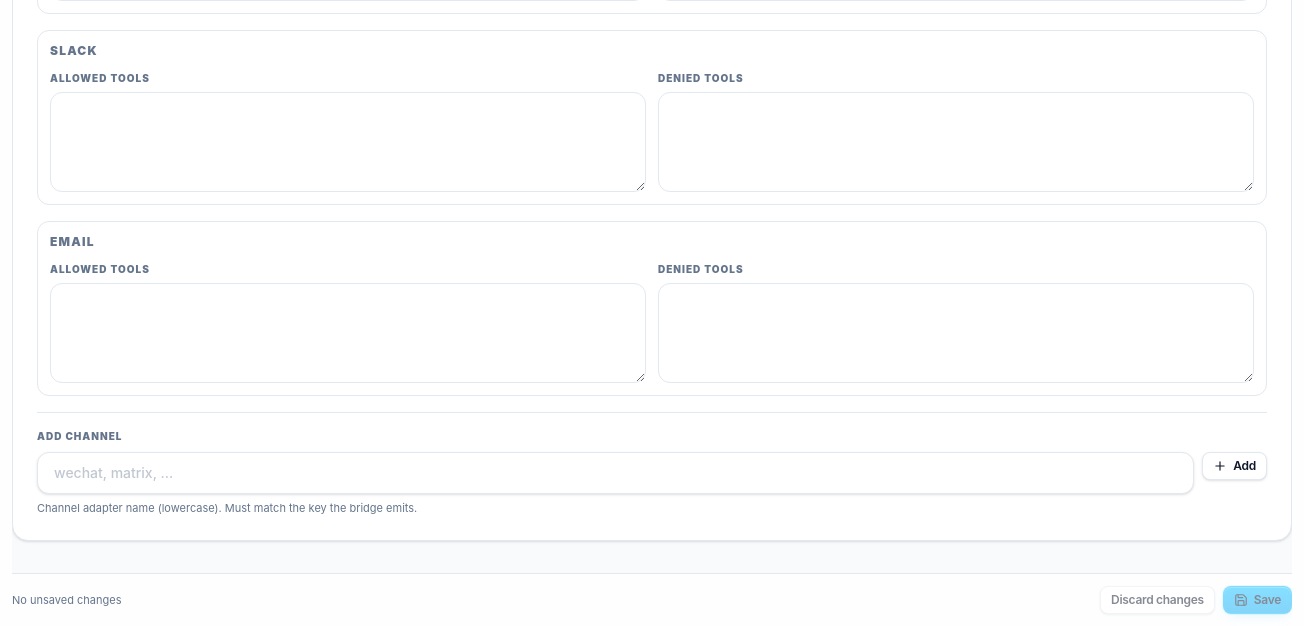
Test: UserPolicyPage › rejects adding a duplicate channel and shows an inline error
(page scrolled)
Note: telegram is already in defaults.
Step 1. Type "telegram" into the field with placeholder "wechat, matrix, …" → (616, 472), box x1=37 y1=452 x2=1194 y2=494
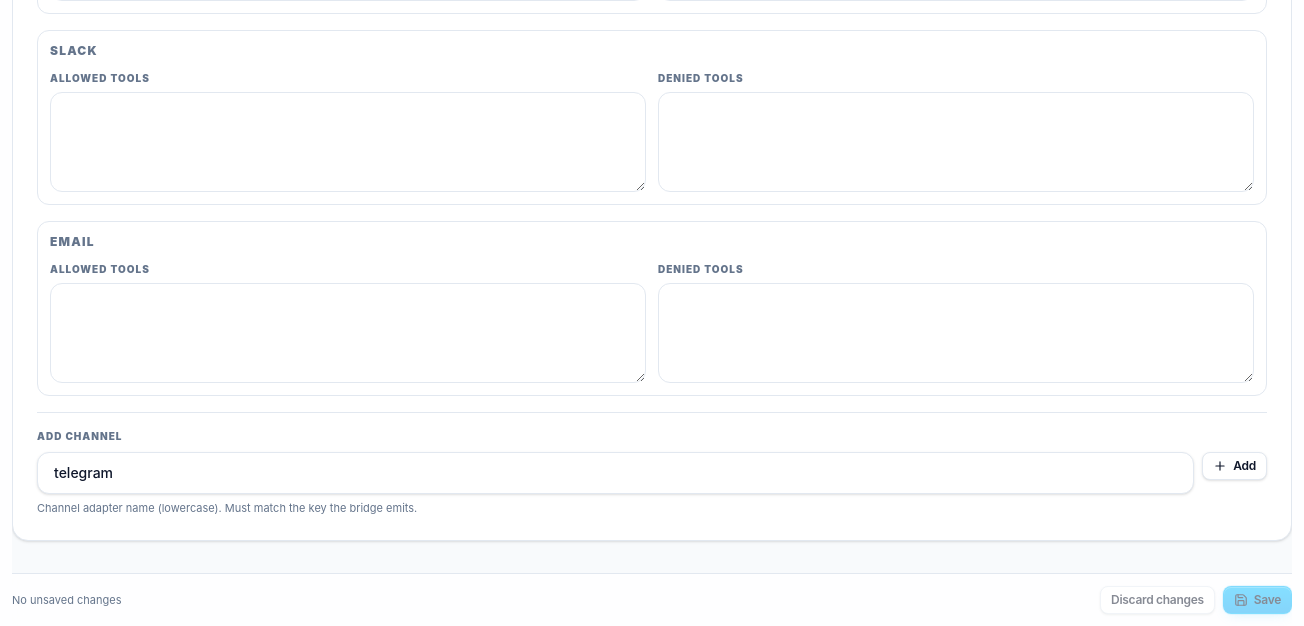
Step 2. Click the button "Add" → (1235, 466), box x1=1202 y1=452 x2=1267 y2=480
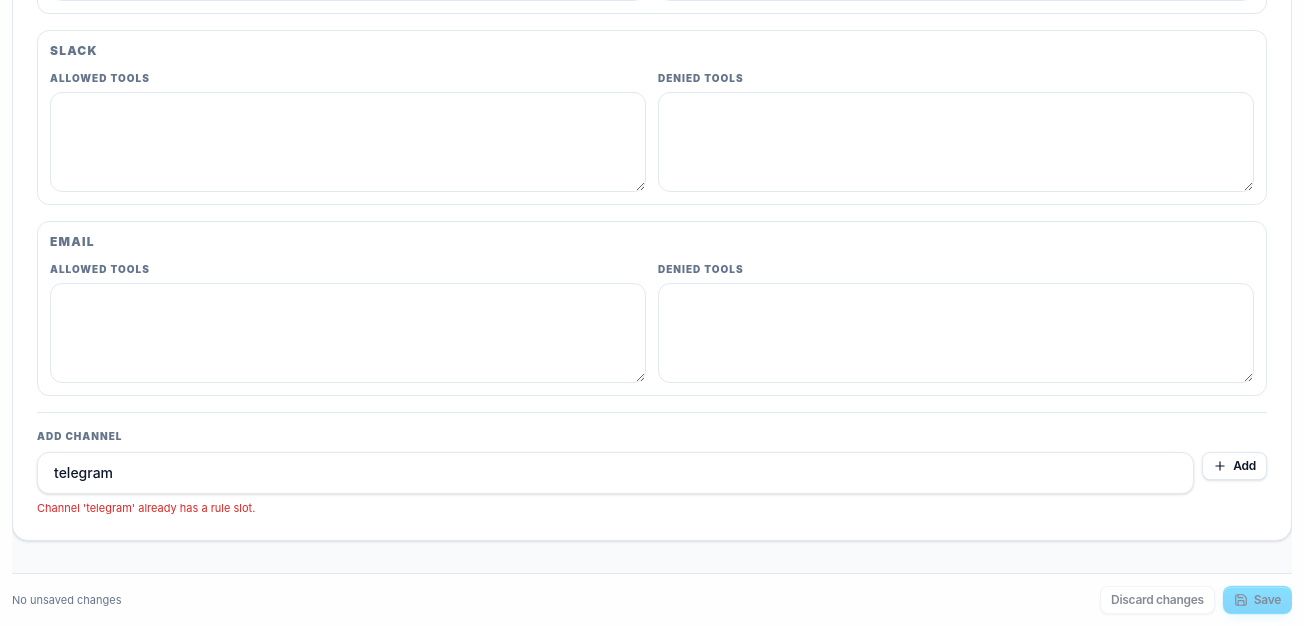
Check: the text "Channel 'telegram' already has a rule slot." is shown, box x1=37 y1=500 x2=255 y2=514
